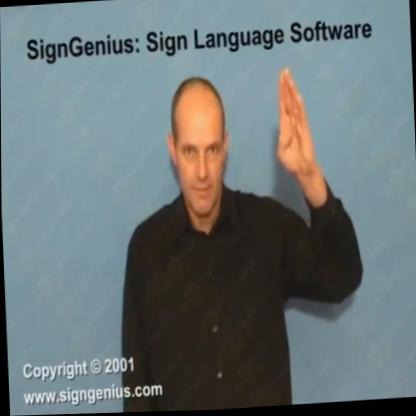Hello: (164, 53, 322, 245)
